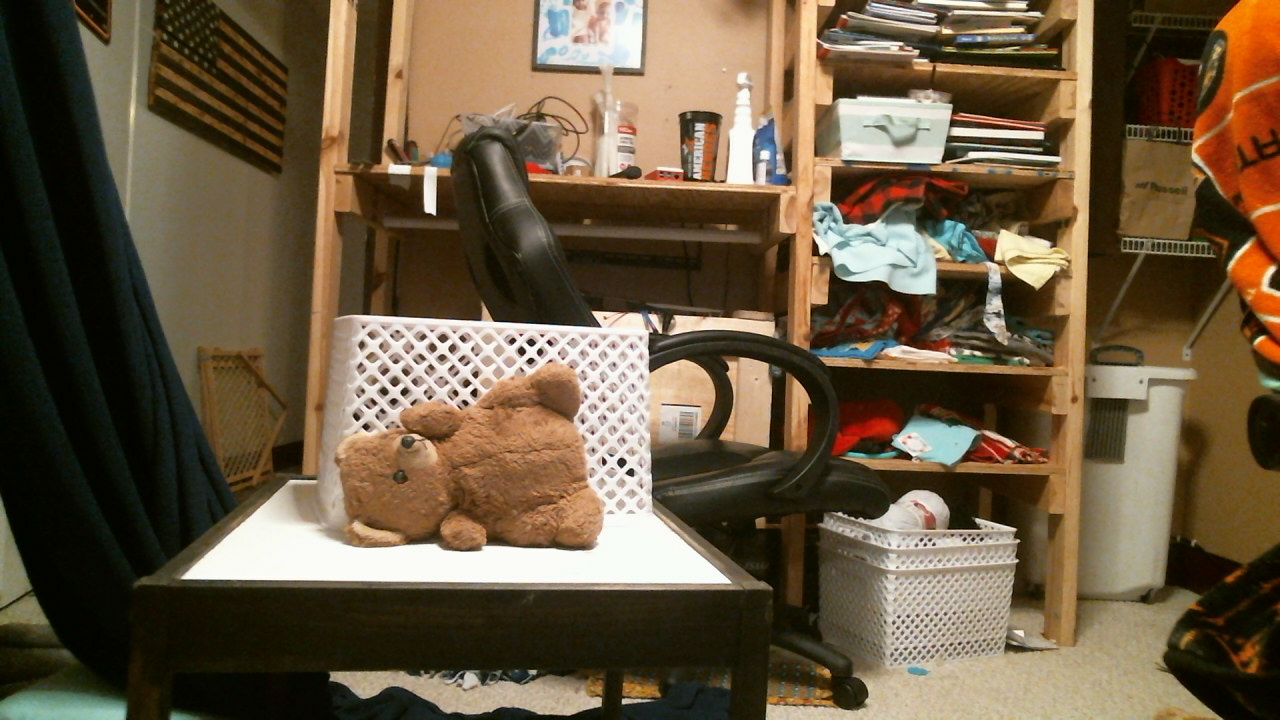Little_Mister_Bear: (383, 434, 445, 505)
